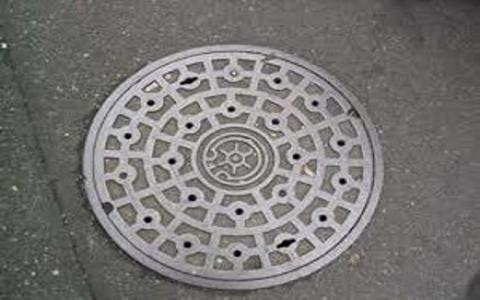proper manhole: (82, 36, 384, 294)
